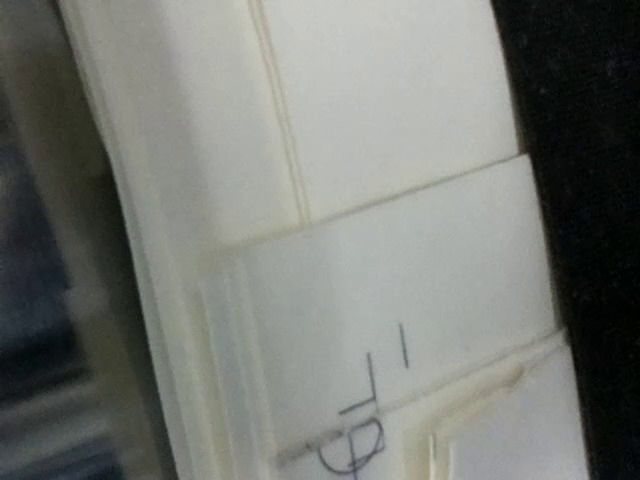misaligned: (271, 349, 389, 477)
